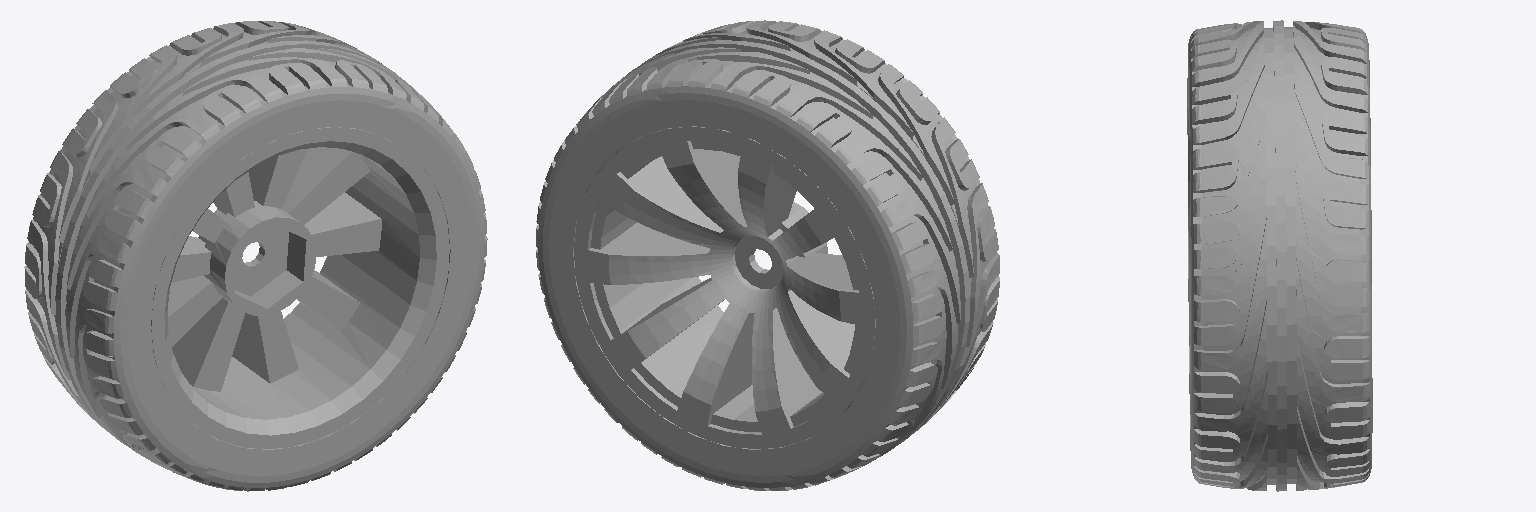
URDF robot description (yahboomcar):
<?xml version="1.0" ?>
<!-- =================================================================================== -->
<!-- |    This document was autogenerated by xacro from yahboomcar_X3.urdf.xacro       | -->
<!-- |    EDITING THIS FILE BY HAND IS NOT RECOMMENDED                                 | -->
<!-- =================================================================================== -->
<robot name="yahboomcar" xmlns:gz="http://gazebosim.org/schema">
  <!-- define the list of relevant args -->
  <!-- <xacro:if value="${namespace == 'None'}">
        <xacro:property name="ns" value="" />
      </xacro:if>
      <xacro:unless value="${namespace == 'None'}">
          <xacro:property name="ns" value="${namespace}/" />
      </xacro:unless> -->
  <material name="Green">
    <color rgba="0 0.7 0 1"/>
  </material>
  <material name="White">
    <color rgba="0.7 0.7 0.7 1"/>
  </material>
  <link name="base_footprint"/>
  <!-- <link name="imu_link"/> -->
  <link name="base_link">
    <inertial>
      <origin rpy="0 0 0" xyz="0.00498197982182523 5.70233829969297E-05 -0.0121008098068578"/>
      <mass value="0.486218814966626"/>
      <inertia ixx="0.00196277727666921" ixy="2.50447049446755E-07" ixz="0.000140534767811098" iyy="0.00457256033711368" iyz="2.68618064993882E-07" izz="0.00493927269870476"/>
    </inertial>
    <visual>
      <origin rpy="0 0 0" xyz="0 0 0"/>
      <geometry>
        <mesh filename="package://master3_description/meshes/base_link_X3.STL"/>
      </geometry>
      <material name="">
        <color rgba="0 0.7 0 1"/>
      </material>
    </visual>
    <collision>
      <origin rpy="0 0 0" xyz="0 0 0"/>
      <geometry>
        <mesh filename="package://master3_description/meshes/base_link_X3.STL"/>
      </geometry>
    </collision>
  </link>
  <joint name="base_joint" type="fixed">
    <parent link="base_footprint"/>
    <child link="base_link"/>
    <origin rpy="0 0 0" xyz="0.0 0.0 0.0815"/>
  </joint>
  <!-- <joint name="base_imu" type="fixed">
        <parent link="base_link"/>
        <child link="imu_link"/>
        <origin xyz="-0.06 0.01 0.01" rpy="0 3.1415 1.5707"/>
    </joint> -->
  <!-- <xacro:common_link name="base_link" material="Green" path="mecanum">
        <inertial>
            <origin xyz="0.00498197982182523 5.70233829969297E-05 -0.0121008098068578" rpy="0 0 0"/>
            <mass value="0.486218814966626"/>
            <inertia
                    ixx="0.00196277727666921"
                    ixy="2.50447049446755E-07"
                    ixz="0.000140534767811098"
                    iyy="0.00457256033711368"
                    iyz="2.68618064993882E-07"
                    izz="0.00493927269870476"/>
        </inertial>
    </xacro:common_link> -->
  <!-- <xacro:fixed_joint name="base_joint" parent="base_footprint" child="base_link" xyz="0.0 0.0 0.0815" rpy="0 0 0"/> -->
  <!-- <xacro:fixed_joint name="base_imu" parent="base_link" child="imu_link" xyz="-0.06 0.01 0.01" rpy="0 3.1415 1.5707"/> -->
  <link name="front_right_wheel">
    <visual>
      <geometry>
        <mesh filename="package://master3_description/meshes/mecanum/front_right_wheel.STL"/>
      </geometry>
      <origin rpy="0 0 0" xyz="0 0 0"/>
      <material name="White"/>
    </visual>
    <collision>
      <pose>0 0 0 0 0 0</pose>
      <geometry>
        <sphere radius="0.032391999999999997"/>
      </geometry>
    </collision>
    <inertial>
      <origin rpy="0 0 0" xyz="1.9051E-06 -2.3183E-07 -0.00064079"/>
      <mass value="0.051532"/>
      <inertia ixx="1.4595E-05" ixy="-4.3975E-10" ixz="4.415E-10" iyy="1.4594E-05" iyz="-1.7476E-09" izz="2.4264E-05"/>
    </inertial>
  </link>
  <gazebo reference="front_right_wheel">
    <collision>
      <surface>
        <contact>
          <ode/>
        </contact>
        <friction>
          <ode>
            <mu>1.0</mu>
            <mu2>0.0</mu2>
            <fdir1 gz:expressed_in="base_footprint">1 1 0</fdir1>
          </ode>
        </friction>
      </surface>
    </collision>
    <!-- <mu1>1</mu1>
            <mu2>0</mu2>
            <fdir1 gz:expressed_in='base_footprint'>${fdir}</fdir1> -->
  </gazebo>
  <link name="front_left_wheel">
    <visual>
      <geometry>
        <mesh filename="package://master3_description/meshes/mecanum/front_left_wheel.STL"/>
      </geometry>
      <origin rpy="0 0 0" xyz="0 0 0"/>
      <material name="White"/>
    </visual>
    <collision>
      <pose>0 0 0 0 0 0</pose>
      <geometry>
        <sphere radius="0.032391999999999997"/>
      </geometry>
    </collision>
    <inertial>
      <origin rpy="0 0 0" xyz="2.3728E-06 -9.4228E-07 0.00064068"/>
      <mass value="0.051543"/>
      <inertia ixx="1.4597E-05" ixy="-4.7945E-10" ixz="-2.4786E-10" iyy="1.4598E-05" iyz="1.7972E-09" izz="2.4267E-05"/>
    </inertial>
  </link>
  <gazebo reference="front_left_wheel">
    <collision>
      <surface>
        <contact>
          <ode/>
        </contact>
        <friction>
          <ode>
            <mu>1.0</mu>
            <mu2>0.0</mu2>
            <fdir1 gz:expressed_in="base_footprint">1 -1 0</fdir1>
          </ode>
        </friction>
      </surface>
    </collision>
    <!-- <mu1>1</mu1>
            <mu2>0</mu2>
            <fdir1 gz:expressed_in='base_footprint'>${fdir}</fdir1> -->
  </gazebo>
  <link name="back_right_wheel">
    <visual>
      <geometry>
        <mesh filename="package://master3_description/meshes/mecanum/back_right_wheel.STL"/>
      </geometry>
      <origin rpy="0 0 0" xyz="0 0 0"/>
      <material name="White"/>
    </visual>
    <collision>
      <pose>0 0 0 0 0 0</pose>
      <geometry>
        <sphere radius="0.032391999999999997"/>
      </geometry>
    </collision>
    <inertial>
      <origin rpy="0 0 0" xyz="-1.75924169923403E-06 1.28388821071107E-06 -0.000590549296238266"/>
      <mass value="0.051540174053366"/>
      <inertia ixx="1.45974152250002E-05" ixy="1.94850559178397E-10" ixz="-1.61846387282284E-09" iyy="1.4596501955693E-05" iyz="-6.27904057423818E-10" izz="2.42663091380451E-05"/>
    </inertial>
  </link>
  <gazebo reference="back_right_wheel">
    <collision>
      <surface>
        <contact>
          <ode/>
        </contact>
        <friction>
          <ode>
            <mu>1.0</mu>
            <mu2>0.0</mu2>
            <fdir1 gz:expressed_in="base_footprint">1 -1 0</fdir1>
          </ode>
        </friction>
      </surface>
    </collision>
    <!-- <mu1>1</mu1>
            <mu2>0</mu2>
            <fdir1 gz:expressed_in='base_footprint'>${fdir}</fdir1> -->
  </gazebo>
  <link name="back_left_wheel">
    <visual>
      <geometry>
        <mesh filename="package://master3_description/meshes/mecanum/back_left_wheel.STL"/>
      </geometry>
      <origin rpy="0 0 0" xyz="0 0 0"/>
      <material name="White"/>
    </visual>
    <collision>
      <pose>0 0 0 0 0 0</pose>
      <geometry>
        <sphere radius="0.032391999999999997"/>
      </geometry>
    </collision>
    <inertial>
      <origin rpy="0 0 0" xyz="-4.01213085227115E-07 2.04910264598596E-06 0.000590775697051377"/>
      <mass value="0.0515309299357028"/>
      <inertia ixx="1.45942986129926E-05" ixy="-3.19787215398093E-10" ixz="1.74943062058915E-09" iyy="1.45948727598913E-05" iyz="1.61769812110049E-10" izz="2.4263683888153E-05"/>
    </inertial>
  </link>
  <gazebo reference="back_left_wheel">
    <collision>
      <surface>
        <contact>
          <ode/>
        </contact>
        <friction>
          <ode>
            <mu>1.0</mu>
            <mu2>0.0</mu2>
            <fdir1 gz:expressed_in="base_footprint">1 1 0</fdir1>
          </ode>
        </friction>
      </surface>
    </collision>
    <!-- <mu1>1</mu1>
            <mu2>0</mu2>
            <fdir1 gz:expressed_in='base_footprint'>${fdir}</fdir1> -->
  </gazebo>
  <joint name="front_right_joint" type="continuous">
    <parent link="base_link"/>
    <child link="front_right_wheel"/>
    <origin rpy="-1.5707963267948966 0 3.141592653589793" xyz="0.08 -0.0845 -0.0389"/>
    <axis xyz="0 0 1"/>
    <limit effort="100" lower="-3.141592653589793" upper="3.141592653589793" velocity="5"/>
  </joint>
  <joint name="front_left_joint" type="continuous">
    <parent link="base_link"/>
    <child link="front_left_wheel"/>
    <origin rpy="1.5707963267948966 0 0" xyz="0.08 0.084492 -0.0389"/>
    <axis xyz="0 0 1"/>
    <limit effort="100" lower="-3.141592653589793" upper="3.141592653589793" velocity="5"/>
  </joint>
  <joint name="back_right_joint" type="continuous">
    <parent link="base_link"/>
    <child link="back_right_wheel"/>
    <origin rpy="-1.5707963267948966 0 3.141592653589793" xyz="-0.08 -0.0845 -0.03946"/>
    <axis xyz="0 0 1"/>
    <limit effort="100" lower="-3.141592653589793" upper="3.141592653589793" velocity="5"/>
  </joint>
  <joint name="back_left_joint" type="continuous">
    <parent link="base_link"/>
    <child link="back_left_wheel"/>
    <origin rpy="1.5707963267948966 0 0" xyz="-0.08 0.084492 -0.03954"/>
    <axis xyz="0 0 1"/>
    <limit effort="100" lower="-3.141592653589793" upper="3.141592653589793" velocity="5"/>
  </joint>
  <link name="laser_link">
    <visual>
      <geometry>
        <mesh filename="package://master3_description/meshes/sensor/laser_link.STL"/>
      </geometry>
      <origin rpy="0 0 0" xyz="0 0 0"/>
      <material name="White"/>
    </visual>
    <collision>
      <geometry>
        <mesh filename="package://master3_description/meshes/sensor/laser_link.STL"/>
      </geometry>
      <origin rpy="0 0 0" xyz="0 0 0"/>
    </collision>
    <inertial>
      <origin rpy="0 0 0" xyz="-0.0176558922685589 0.000671805271544437 0.0219302095894866"/>
      <mass value="0.0483909504209895"/>
      <inertia ixx="1.58456966399128E-05" ixy="-4.23913983850005E-07" ixz="-2.09597897904374E-07" iyy="3.89262522903605E-05" iyz="3.24809725932687E-07" izz="4.86230801106223E-05"/>
    </inertial>
  </link>
  <joint name="laser_joint" type="fixed">
    <parent link="base_link"/>
    <child link="laser_link"/>
    <origin rpy="0 0 0" xyz="0.0435 5.25826986680105E-05 0.11"/>
  </joint>
  <link name="camera_link">
    <visual>
      <geometry>
        <mesh filename="package://master3_description/meshes/sensor/camera_link.STL"/>
      </geometry>
      <origin rpy="0 0 0" xyz="0 0 0"/>
      <material name="White"/>
    </visual>
    <collision>
      <geometry>
        <mesh filename="package://master3_description/meshes/sensor/camera_link.STL"/>
      </geometry>
      <origin rpy="0 0 0" xyz="0 0 0"/>
    </collision>
    <inertial>
      <origin rpy="0 0 0" xyz="0 0 0"/>
      <mass value="0"/>
      <inertia ixx="0" ixy="0" ixz="0" iyy="0" iyz="0" izz="0"/>
    </inertial>
  </link>
  <joint name="camera_joint" type="fixed">
    <parent link="base_link"/>
    <child link="camera_link"/>
    <origin rpy="0 0 0" xyz="0.057105 1.7948E-05 0.03755"/>
  </joint>
  <joint name="camera_optical_joint" type="fixed">
    <origin rpy="-1.5707963267948966 0 -1.5707963267948966" xyz="0 0 0"/>
    <parent link="camera_link"/>
    <child link="camera_link_optical"/>
  </joint>
  <link name="camera_link_optical"/>
  <gazebo>
    <plugin filename="gz-sim-mecanum-drive-system" name="gz::sim::systems::MecanumDrive">
      <front_left_joint>front_left_joint</front_left_joint>
      <front_right_joint>front_right_joint</front_right_joint>
      <back_left_joint>back_left_joint</back_left_joint>
      <back_right_joint>back_right_joint</back_right_joint>
      <!-- Lateral distance between left and right wheels -->
      <wheel_separation>0.169</wheel_separation>
      <!-- Longitudinal distance between front and back wheels -->
      <wheelbase>0.16</wheelbase>
      <!-- Wheel radius -->
      <wheel_radius>-0.042</wheel_radius>
      <!-- <min_acceleration>-5</min_acceleration>
                <max_acceleration>5</max_acceleration> -->
      <max_velocity>3.0</max_velocity>
      <min_velocity>-3.0</min_velocity>
      <!-- <min_jerk>3</min_jerk>
                <max_jerk>-3</max_jerk> -->
      <odom_publish_frequency>10</odom_publish_frequency>
      <odom_topic>/odometry</odom_topic>
      <publish_odom_tf>false</publish_odom_tf>
      <publish_wheel_tf>true</publish_wheel_tf>
      <topic>/cmd_vel</topic>
      <tf_topic>/pose</tf_topic>
    </plugin>
  </gazebo>
  <gazebo>
    <!-- 
            The JointStatePublisher system publishes joint state information for a model. The published message type is gz::msgs::Model, and the publication topic is determined by the <topic> parameter.
            By default the JointStatePublisher will publish all joints for a model. Use the <joint_name> system parameter, described below, to control which joints are published.

            <topic>: Name of the topic to publish to. This parameter is optional, and if not provided, the joint state will be published to "/world/<world_name>/model/<model_name>/joint_state".
            <joint_name>: Name of a joint to publish. This parameter can be specified multiple times, and is optional. All joints in a model will be published if joint names are not specified. 
         -->
    <plugin filename="gz-sim-joint-state-publisher-system" name="gz::sim::systems::JointStatePublisher">
      </plugin>
    <!-- 
        Pose publisher system. Attach to an entity to publish the transform of its child entities in the form of gz::msgs::Pose messages, or a single gz::msgs::Pose_V message if "use_pose_vector_msg" is true.
        <publish_link_pose>: Set to true to publish link pose
        <publish_visual_pose>: Set to true to publish visual pose
        <publish_collision_pose>: Set to true to publish collision pose
        <publish_sensor_pose>: Set to true to publish sensor pose
        <publish_model_pose>: Set to true to publish model pose.
        <publish_nested_model_pose>: Set to true to publish nested model pose. The pose of the model that contains this system is also published unless publish_model_pose is set to false
        <use_pose_vector_msg>: Set to true to publish a gz::msgs::Pose_V message instead of mulitple gz::msgs::Pose messages.
        <update_frequency>: Frequency of pose publications in Hz. A negative frequency publishes as fast as possible (i.e, at the rate of the simulation step)
        <static_publisher>: Set to true to publish static poses on a "<scoped_entity_name>/pose_static" topic. This will cause only dynamic poses to be published on the "<scoped_entity_name>/pose" topic.
        <static_update_frequency>: Frequency of static pose publications in Hz. A negative frequency publishes as fast as possible (i.e, at the rate of the simulation step). 
        -->
    <!-- <plugin
        filename="gz-sim-pose-publisher-system"
        name="gz::sim::systems::PosePublisher">
        <publish_link_pose>true</publish_link_pose>
        <use_pose_vector_msg>true</use_pose_vector_msg>
        <static_publisher>true</static_publisher>
        <static_update_frequency>1</static_update_frequency>
      </plugin> -->
    <!-- ## IMU sensor
        This system manages all IMU sensors in simulation. Each IMU sensor reports vertical position, angular velocity and linear acceleration readings over Gazebo Transport.
        https://gazebosim.org/docs/harmonic/sensors
        The inertial measurement unit (IMU) outputs the `orientation` of our
        robot in quaternions, the `angular_velocity` in the three axes (X, Y, Z),
        and the `linear_acceleration` in the three axes. Let's use our
        [moving_robot.sdf](https://github.com/gazebosim/docs/blob/master/harmonic/tutorials/moving_robot/moving_robot.sdf) world and modify it. Create a new file
        `sensor_tutorial.sdf` and add the code from `moving_robot.sdf` to it.
        To define the `IMU` sensor add this code under the `<world>` tag: 
    -->
    <!-- <plugin filename="gz-sim-imu-system"
        name="gz::sim::systems::Imu">
    </plugin> -->
    <!-- 
    Odometry Publisher which can be attached to any entity in order to periodically publish 2D or 3D odometry data in the form of gz::msgs::Odometry messages.

    System Parameters
    <odom_frame>: Name of the world-fixed coordinate frame for the is {name_of_model}/odom.
    <robot_base_frame>: Name of the coordinate frame rigidly attached to the mobile robot base. This element is optional, and the default value is {name_of_model}/base_footprint.
    <odom_publish_frequency>: Odometry publication frequency. This element is optional, and the default value is 50Hz.
    <odom_topic>: Custom topic on which this system will publish odometry messages. This element is optional, and the default value is /model/{name_of_model}/odometry.
    <odom_covariance_topic>: Custom topic on which this system will publish odometry with covariance messages. This element is optional, and the default value is /model/{name_of_model}/odometry_with_covariance.
    <tf_topic>: Custom topic on which this system will publish the transform from odom_frame to robot_base_frame. This element is optional, and the default value is /model/{name_of_model}/pose.
    <dimensions>: Number of dimensions to represent odometry. Only 2 and 3 dimensional spaces are supported. This element is optional, and the default value is 2.
    <xyz_offset>: Position offset relative to the body fixed frame, the default value is 0 0 0. This offset will be added to the odometry message.
    <rpy_offset>: Rotation offset relative to the body fixed frame, the default value is 0 0 0. This offset will be added to the odometry message.
    <gaussian_noise>: Standard deviation of the Gaussian noise to be added to pose and twist messages. This element is optional, and the default value is 0.

 -->
    <plugin filename="gz-sim-odometry-publisher-system" name="gz::sim::systems::OdometryPublisher">
      <odom_frame>odom</odom_frame>
      <robot_base_frame>base_footprint</robot_base_frame>
    </plugin>
  </gazebo>
  <gazebo reference="base_link">
    <sensor name="imu_sensor" type="imu">
      <always_on>1</always_on>
      <update_rate>1</update_rate>
      <visualize>true</visualize>
      <topic>imu</topic>
      <gz_frame_id>base_link</gz_frame_id>
      <imu>
        <angular_velocity>
          <x>
            <noise type="gaussian">
              <mean>0.0</mean>
              <stddev>2e-4</stddev>
              <bias_mean>0.0000075</bias_mean>
              <bias_stddev>0.0000008</bias_stddev>
            </noise>
          </x>
          <y>
            <noise type="gaussian">
              <mean>0.0</mean>
              <stddev>2e-4</stddev>
              <bias_mean>0.0000075</bias_mean>
              <bias_stddev>0.0000008</bias_stddev>
            </noise>
          </y>
          <z>
            <noise type="gaussian">
              <mean>0.0</mean>
              <stddev>2e-4</stddev>
              <bias_mean>0.0000075</bias_mean>
              <bias_stddev>0.0000008</bias_stddev>
            </noise>
          </z>
        </angular_velocity>
        <linear_acceleration>
          <x>
            <noise type="gaussian">
              <mean>0.0</mean>
              <stddev>1.7e-2</stddev>
              <bias_mean>0.1</bias_mean>
              <bias_stddev>0.001</bias_stddev>
            </noise>
          </x>
          <y>
            <noise type="gaussian">
              <mean>0.0</mean>
              <stddev>1.7e-2</stddev>
              <bias_mean>0.1</bias_mean>
              <bias_stddev>0.001</bias_stddev>
            </noise>
          </y>
          <z>
            <noise type="gaussian">
              <mean>0.0</mean>
              <stddev>1.7e-2</stddev>
              <bias_mean>0.1</bias_mean>
              <bias_stddev>0.001</bias_stddev>
            </noise>
          </z>
        </linear_acceleration>
      </imu>
    </sensor>
  </gazebo>
  <gazebo reference="laser_link">
    <sensor name="gpu_lidar" type="gpu_lidar">
      <pose relative_to="laser_link">0 0 0 0 0 0</pose>
      <topic>lidar</topic>
      <update_rate>10</update_rate>
      <gz_frame_id>laser_link</gz_frame_id>
      <ray>
        <scan>
          <horizontal>
            <samples>640</samples>
            <resolution>1</resolution>
            <min_angle>-1.396263</min_angle>
            <max_angle>1.396263</max_angle>
          </horizontal>
          <vertical>
            <samples>1</samples>
            <resolution>0.01</resolution>
            <min_angle>0</min_angle>
            <max_angle>0</max_angle>
          </vertical>
        </scan>
        <range>
          <min>0.08</min>
          <max>10.0</max>
          <resolution>0.01</resolution>
        </range>
      </ray>
      <always_on>1</always_on>
      <visualize>true</visualize>
    </sensor>
  </gazebo>
  <gazebo reference="camera_link">
    <!-- https://github.com/orbbec/OrbbecSDK_ROS2#all-available-topics -->
    <sensor name="camera_orbbec_astra_color" type="camera">
      <always_on>true</always_on>
      <update_rate>10.0</update_rate>
      <topic>/color/image_raw</topic>
      <visualize>true</visualize>
      <gz_frame_id>camera_link</gz_frame_id>
      <horizontal_fov>1.0471975511965976</horizontal_fov>
      <image>
        <width>640</width>
        <height>480</height>
      </image>
      <clip>
        <near>0.6</near>
        <far>8.0</far>
      </clip>
    </sensor>
    <sensor name="camera__orbbec_astra_depth" type="depth_camera">
      <always_on>true</always_on>
      <update_rate>10.0</update_rate>
      <topic>/depth/image_raw</topic>
      <visualize>true</visualize>
      <gz_frame_id>camera_link</gz_frame_id>
      <!-- <gz_frame_id>camera_link_optical</gz_frame_id> -->
      <camera>
        <horizontal_fov>1.0471975511965976</horizontal_fov>
        <image>
          <width>640</width>
          <height>480</height>
        </image>
        <clip>
          <near>0.6</near>
          <far>8.0</far>
        </clip>
        <!-- <noise>
                    <type>gaussian</type>
                    <mean>0.0</mean>
                    <stddev>0.005</stddev>
                </noise> -->
      </camera>
    </sensor>
    <sensor name="camera_opt_orbbec_astra_color" type="camera">
      <always_on>true</always_on>
      <update_rate>10.0</update_rate>
      <topic>/color/opt/image_raw</topic>
      <visualize>true</visualize>
      <!-- <gz_frame_id>camera_link</gz_frame_id> -->
      <gz_frame_id>camera_link_optical</gz_frame_id>
      <horizontal_fov>1.0471975511965976</horizontal_fov>
      <image>
        <width>640</width>
        <height>480</height>
      </image>
      <clip>
        <near>0.6</near>
        <far>8.0</far>
      </clip>
    </sensor>
    <sensor name="camera_opt_orbbec_astra_depth" type="depth_camera">
      <always_on>true</always_on>
      <update_rate>10.0</update_rate>
      <topic>/depth/opt/image_raw</topic>
      <visualize>true</visualize>
      <!-- <gz_frame_id>camera_link</gz_frame_id> -->
      <gz_frame_id>camera_link_optical</gz_frame_id>
      <camera>
        <horizontal_fov>1.0471975511965976</horizontal_fov>
        <image>
          <width>640</width>
          <height>480</height>
        </image>
        <clip>
          <near>0.6</near>
          <far>8.0</far>
        </clip>
        <!-- <noise>
                    <type>gaussian</type>
                    <mean>0.0</mean>
                    <stddev>0.005</stddev>
                </noise> -->
      </camera>
    </sensor>
  </gazebo>
</robot>

--- Facts derived from the render (not from the file) ---
Views: 3 orthographic renders of the robot side by side, from view 1: azimuth 30°, elevation 25°; view 2: azimuth 150°, elevation 25°; view 3: azimuth 270°, elevation 25°.
Robot: yahboomcar — 9 links, 8 joints (4 continuous, 4 fixed); root link base_footprint; default pose: every joint at zero.
Visible links, largest first — view 1: front_left_wheel; view 2: front_left_wheel; view 3: front_left_wheel.
Boxes of the visible links, x1=… form: front_left_wheel: x1=24, y1=21, x2=487, y2=491; front_left_wheel: x1=536, y1=20, x2=999, y2=490; front_left_wheel: x1=1187, y1=20, x2=1372, y2=491.
Bounding box of the posed robot: 0.069 × 0.0271 × 0.069 m (x, y, z).
Meshes: 7 distinct files referenced, 1 mesh visuals loaded (1 binary STL); not drawn: 6 (reference not matched to a file when rendering).